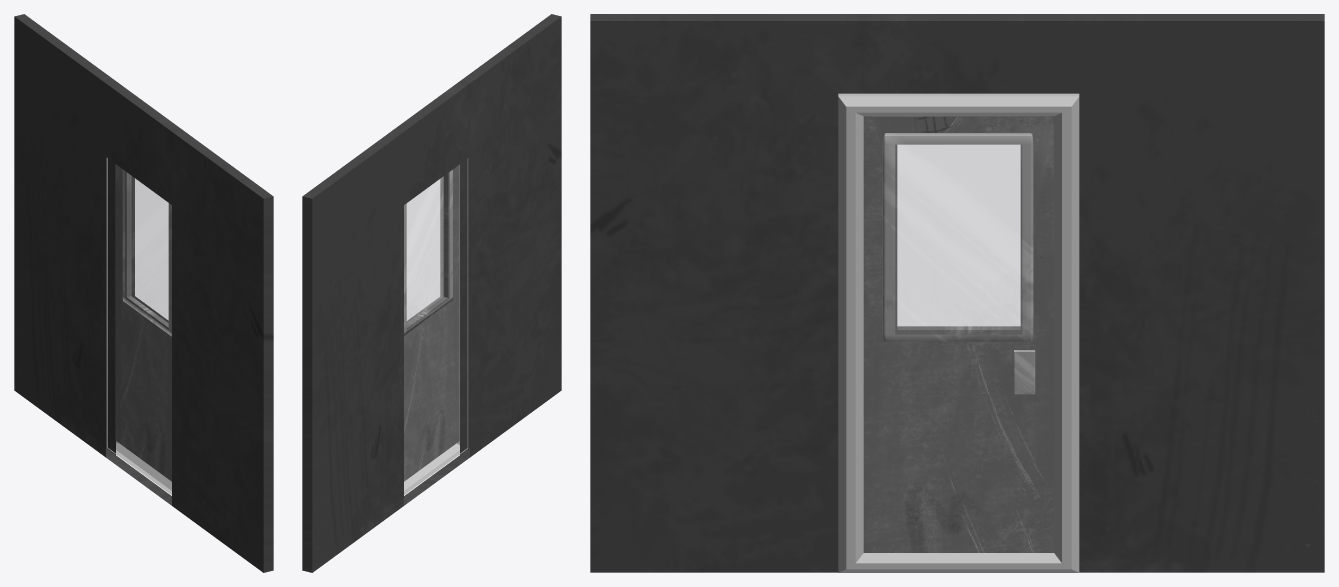
File: GDC-train-door-FULL-UV.fbx
The picture shows the model from 3 angles, left to right: view 1: azimuth 30°, elevation 25°; view 2: azimuth 150°, elevation 25°; view 3: azimuth 270°, elevation 25°; orthographic projection. The views are drawn at different scales.
Visible parts, largest first — view 1: polySurface1, polySurface3; view 2: polySurface1, polySurface3; view 3: polySurface1, polySurface3.
Part boxes in pixels (x1,y1,x2,y2): polySurface1: (14, 14, 273, 572); polySurface3: (106, 158, 171, 494); polySurface1: (302, 14, 561, 572); polySurface3: (404, 158, 468, 494); polySurface1: (590, 14, 1324, 572); polySurface3: (838, 93, 1079, 572).
Bounding box in the file's own units: 0.3077 × 6 × 7.24.
